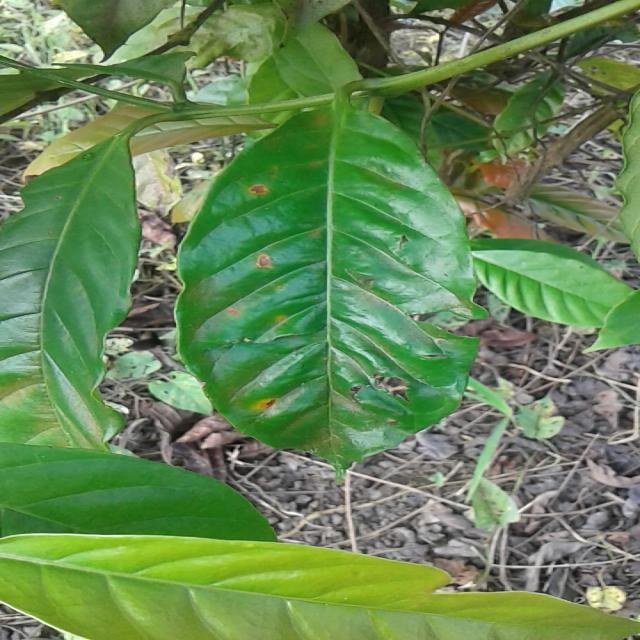Enfermedad-Roya: (174, 98, 489, 480)
